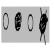correct: (14, 9, 22, 35)
no answer: (27, 11, 34, 34)
not correct: (38, 6, 49, 45)
